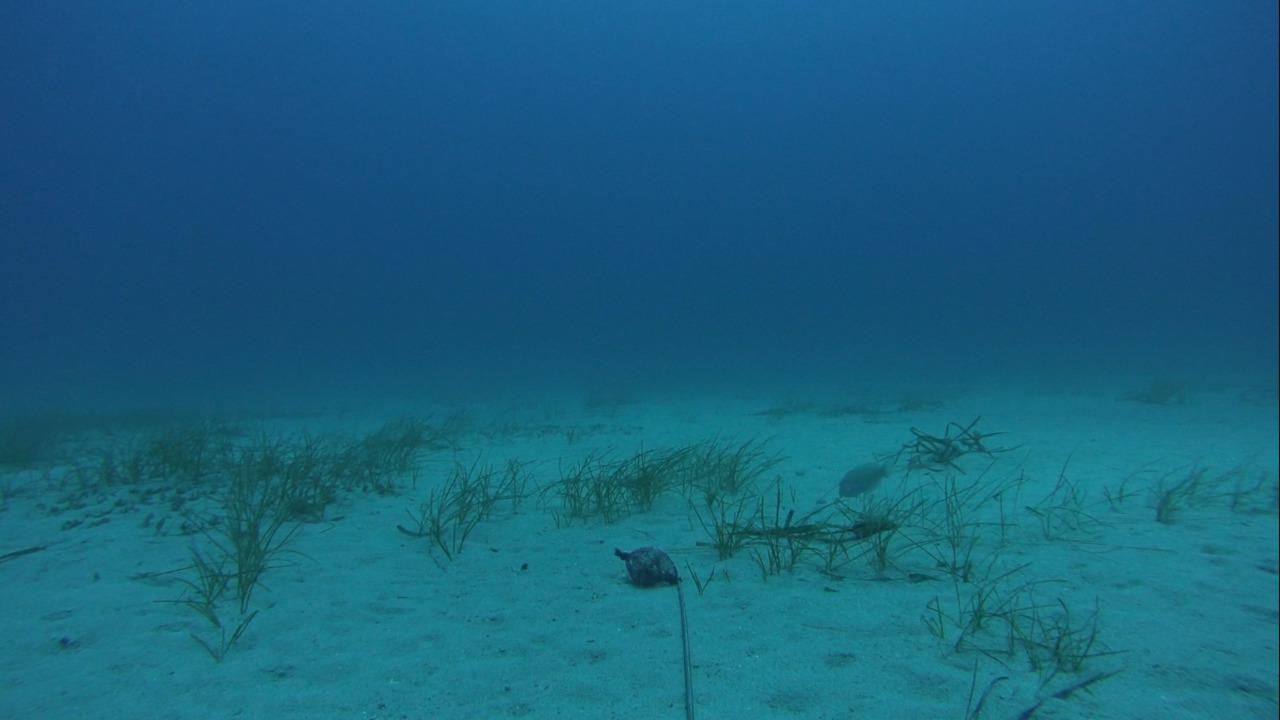raor: (834, 458, 894, 498)
